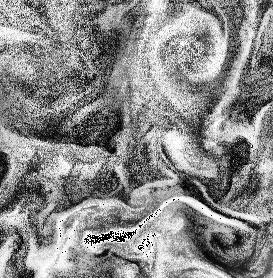AE: (147, 11, 228, 86), (202, 219, 258, 264)
